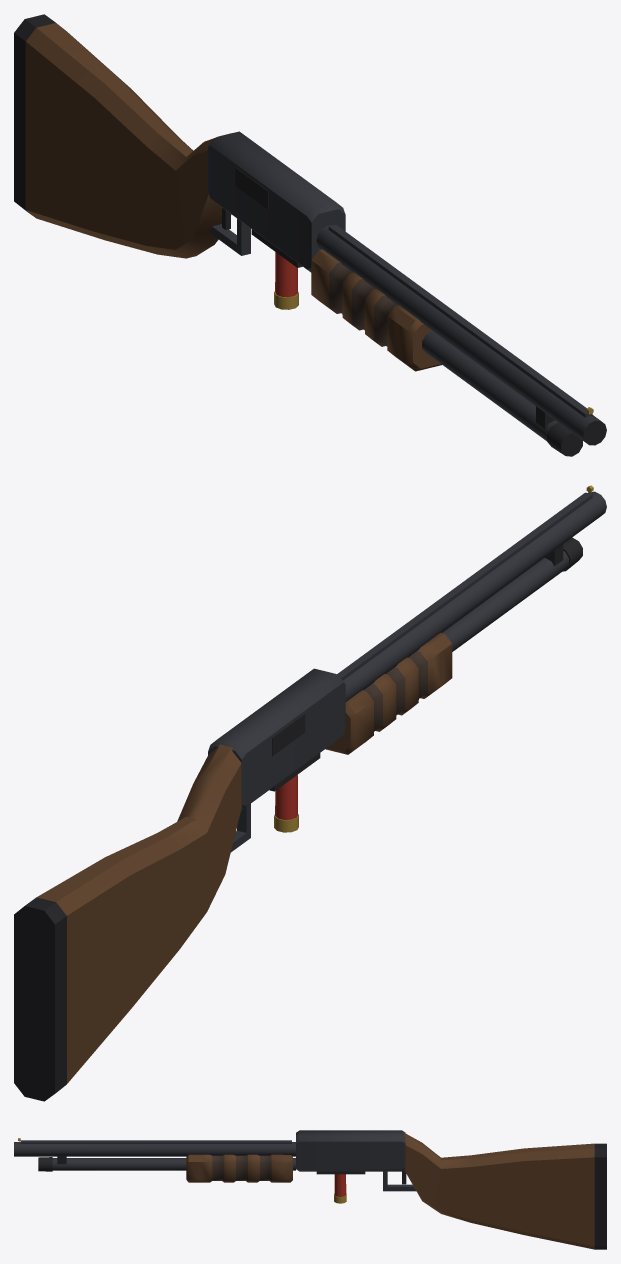
Rendered from shotgun.glb.
3 renders of one model, top to bottom at view 1: azimuth 30°, elevation 25°; view 2: azimuth 150°, elevation 25°; view 3: azimuth 270°, elevation 25°, orthographic. The views are drawn at different scales.
Visible parts, largest first — view 1: Weapon, Pump, Round; view 2: Weapon, Pump, Round; view 3: Weapon, Pump, Round.
Part boxes in pixels (bbox=[...]): Weapon: bbox=[14, 14, 606, 456]; Pump: bbox=[311, 249, 441, 371]; Round: bbox=[274, 252, 298, 309]; Weapon: bbox=[14, 485, 606, 1101]; Pump: bbox=[325, 633, 452, 754]; Round: bbox=[274, 775, 298, 832]; Weapon: bbox=[14, 1130, 606, 1249]; Pump: bbox=[186, 1154, 292, 1182]; Round: bbox=[334, 1174, 346, 1203].
Size of the model in its own units: 0.046 by 0.212 by 1.
